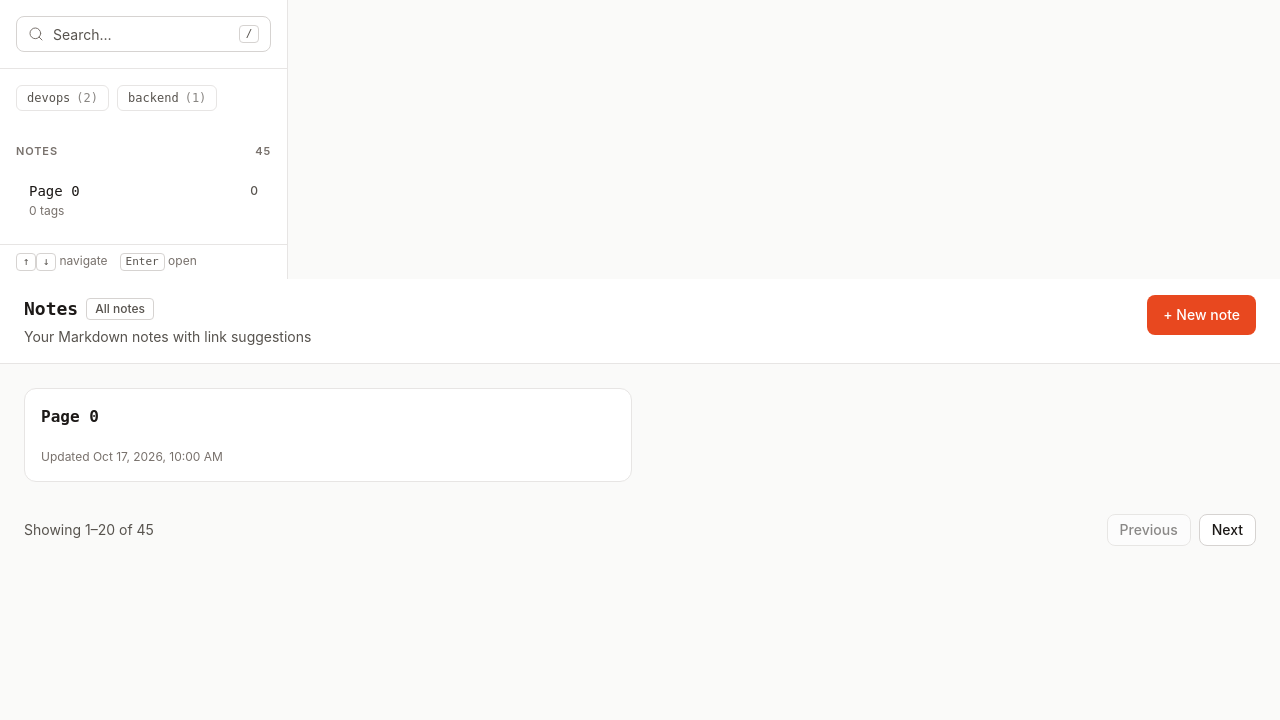
Test case: NotesBrowser › pages through results
Expected: the text "Showing 1–20 of 45" is shown, left=24, top=520, right=154, bottom=540
Expected: the button "Previous" is disabled, left=1107, top=514, right=1191, bottom=546
Click the button "Next" at {"x": 1227, "y": 530}, box left=1199, top=514, right=1256, bottom=546
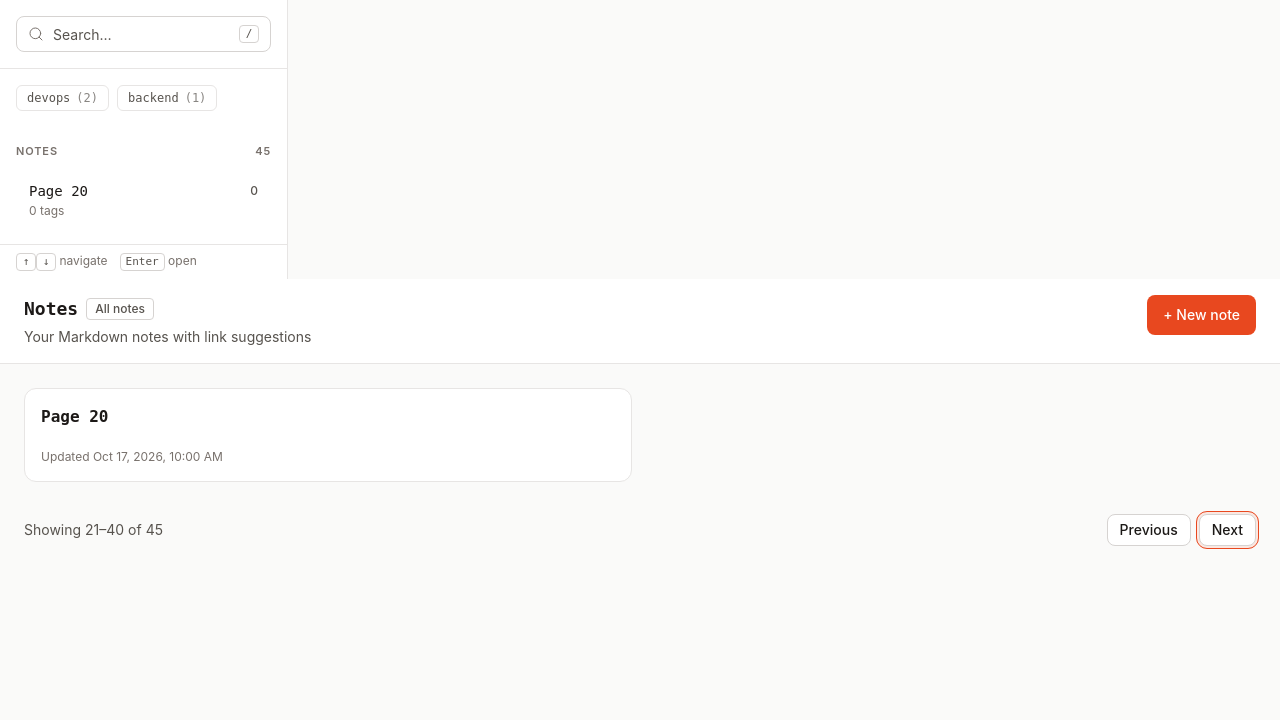
Now the text "Showing 21–40 of 45" is shown, box left=24, top=520, right=163, bottom=540
